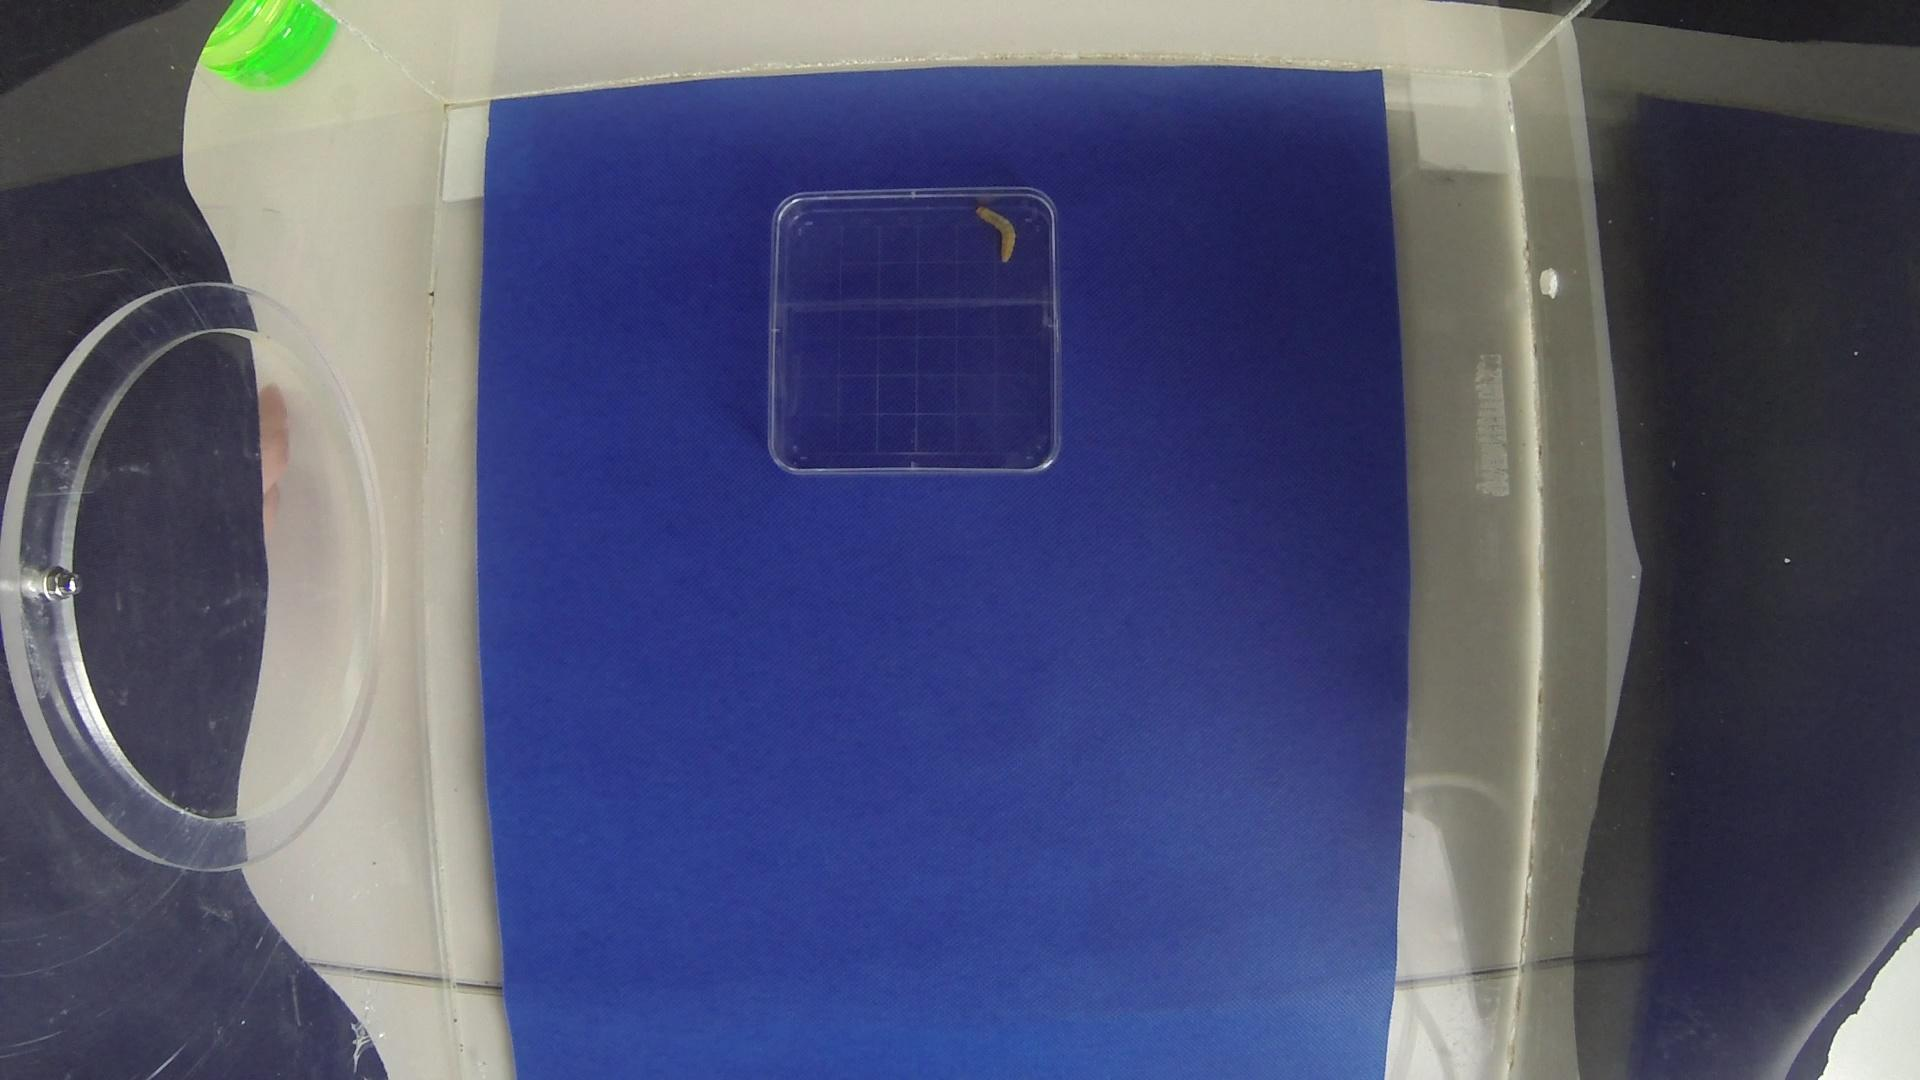larva: (964, 200, 1030, 272)
